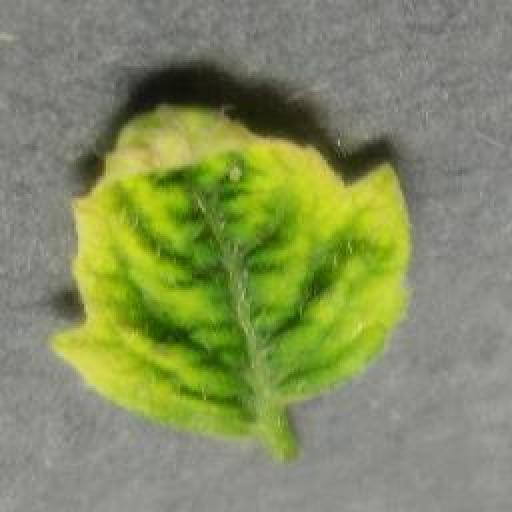Yellow Leaf Curl Virus: (52, 96, 414, 445)
